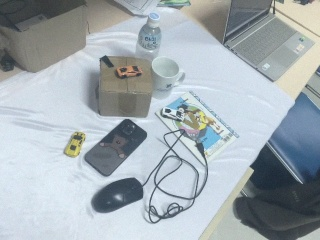book: (153, 90, 244, 161)
bottle: (134, 10, 163, 59)
box: (1, 1, 88, 75), (96, 54, 154, 118)
cup: (150, 56, 186, 101)
mouse: (91, 176, 145, 214)
phone: (83, 117, 148, 178)
toy_car: (64, 131, 86, 158), (117, 64, 142, 79), (161, 106, 185, 121)
